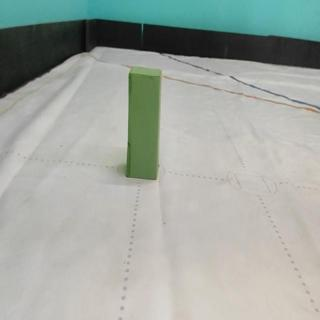greenbox: (124, 63, 164, 182)
